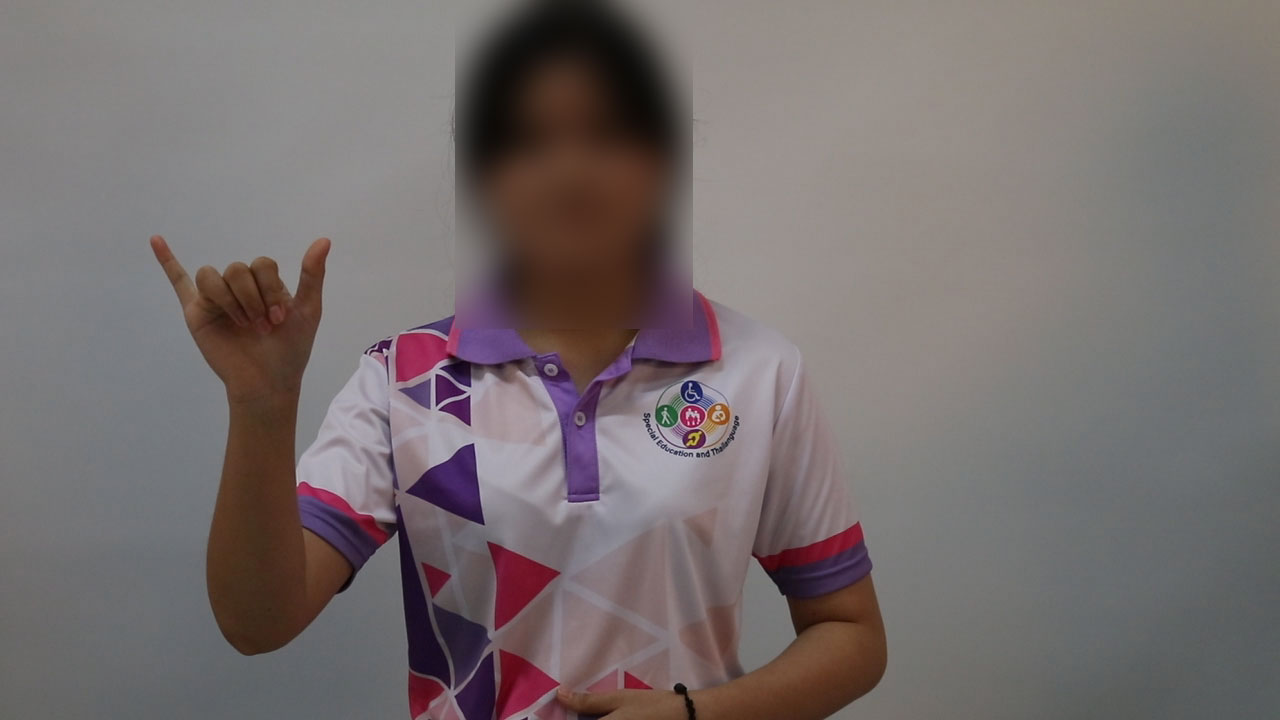yor: (133, 223, 348, 401)
